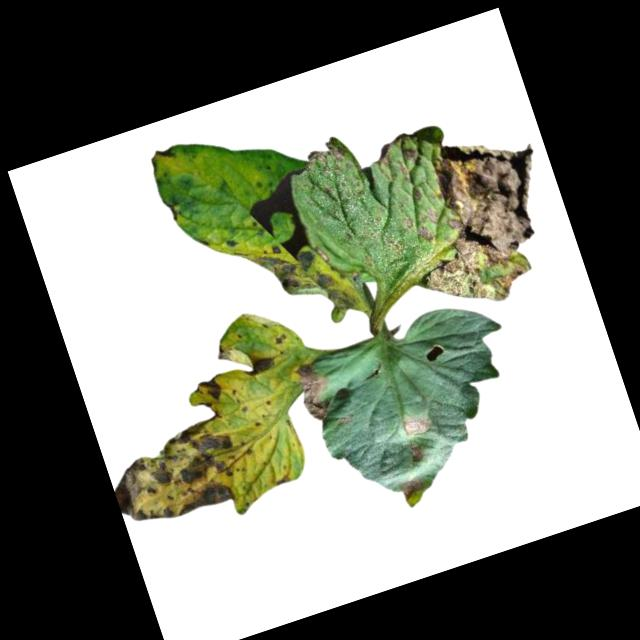Early_blight: (388, 119, 576, 324), (103, 410, 250, 534), (251, 229, 360, 334), (290, 357, 338, 424), (303, 133, 352, 174), (397, 407, 433, 441), (195, 373, 228, 406), (241, 351, 277, 379), (396, 474, 425, 502), (404, 440, 425, 466), (153, 142, 175, 162), (269, 328, 288, 345), (266, 241, 282, 256)
